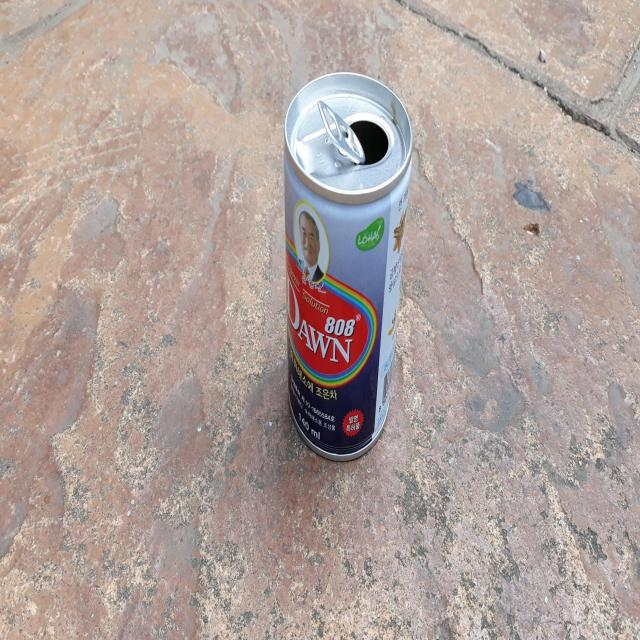can: (284, 71, 413, 460)
